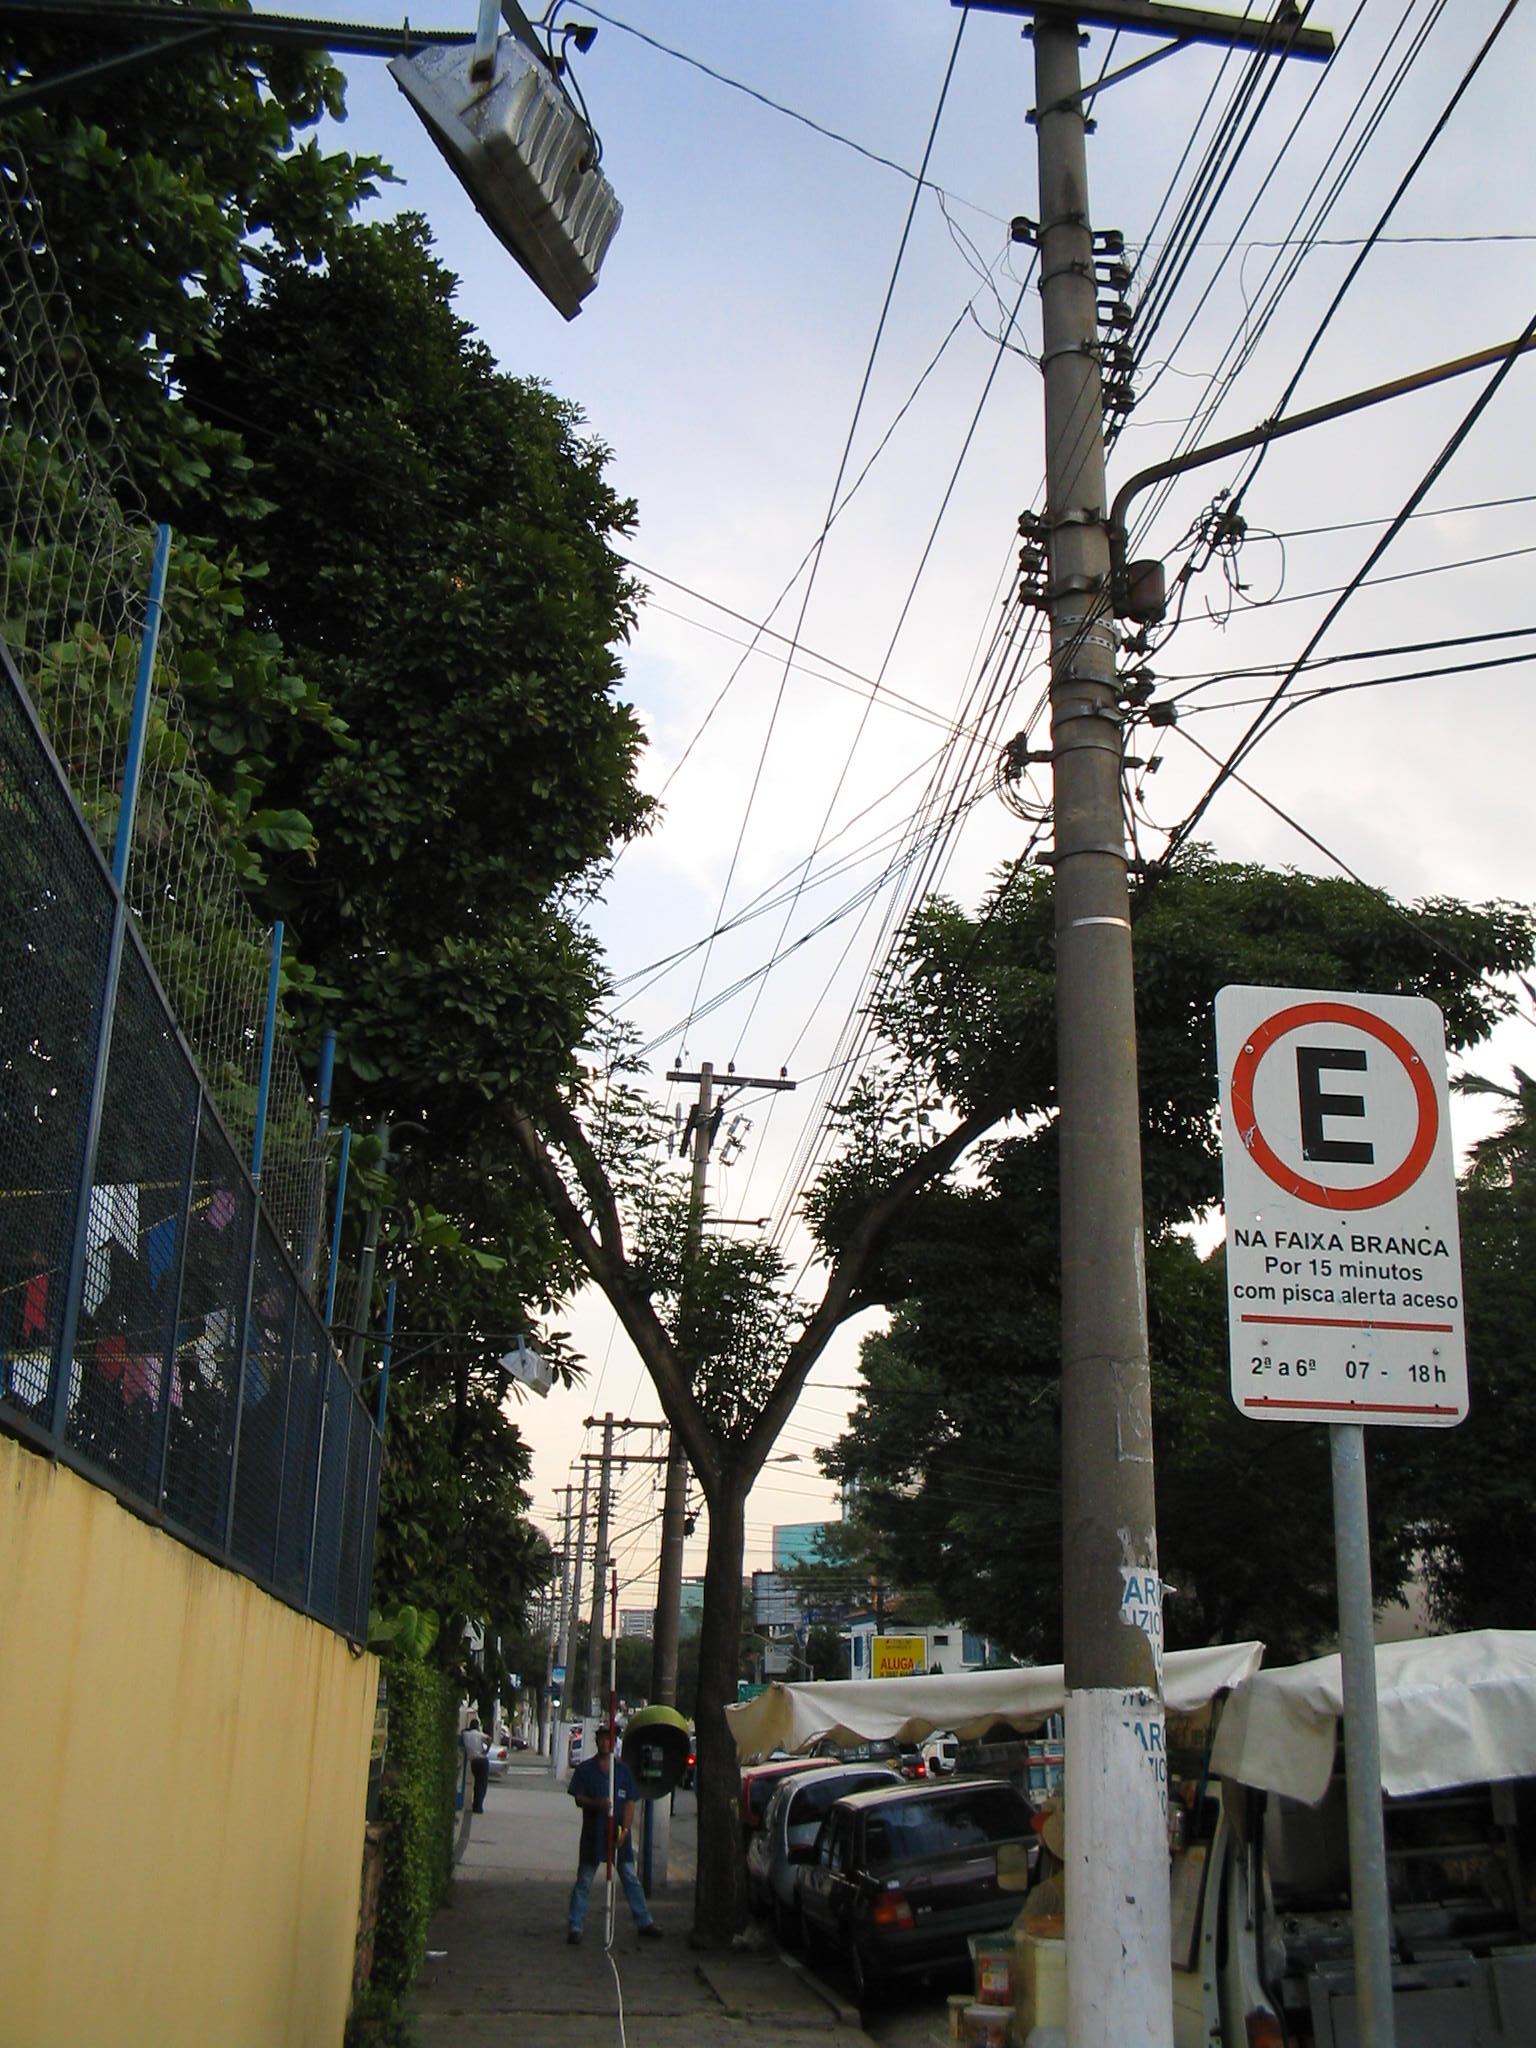crown: (353, 864, 1526, 1297)
stem: (666, 1506, 771, 1946)
stick: (579, 1567, 628, 1951)
tree: (349, 860, 1534, 1951)
